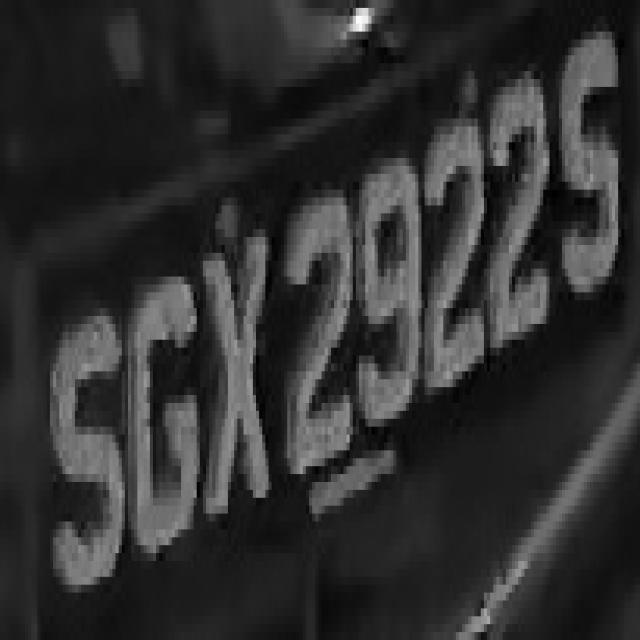2: (275, 182, 359, 498), (415, 102, 493, 418), (480, 48, 552, 380)
9: (352, 134, 428, 450)
G: (119, 276, 203, 576)
S: (37, 276, 128, 616), (552, 48, 630, 308)
X: (203, 222, 275, 522)
